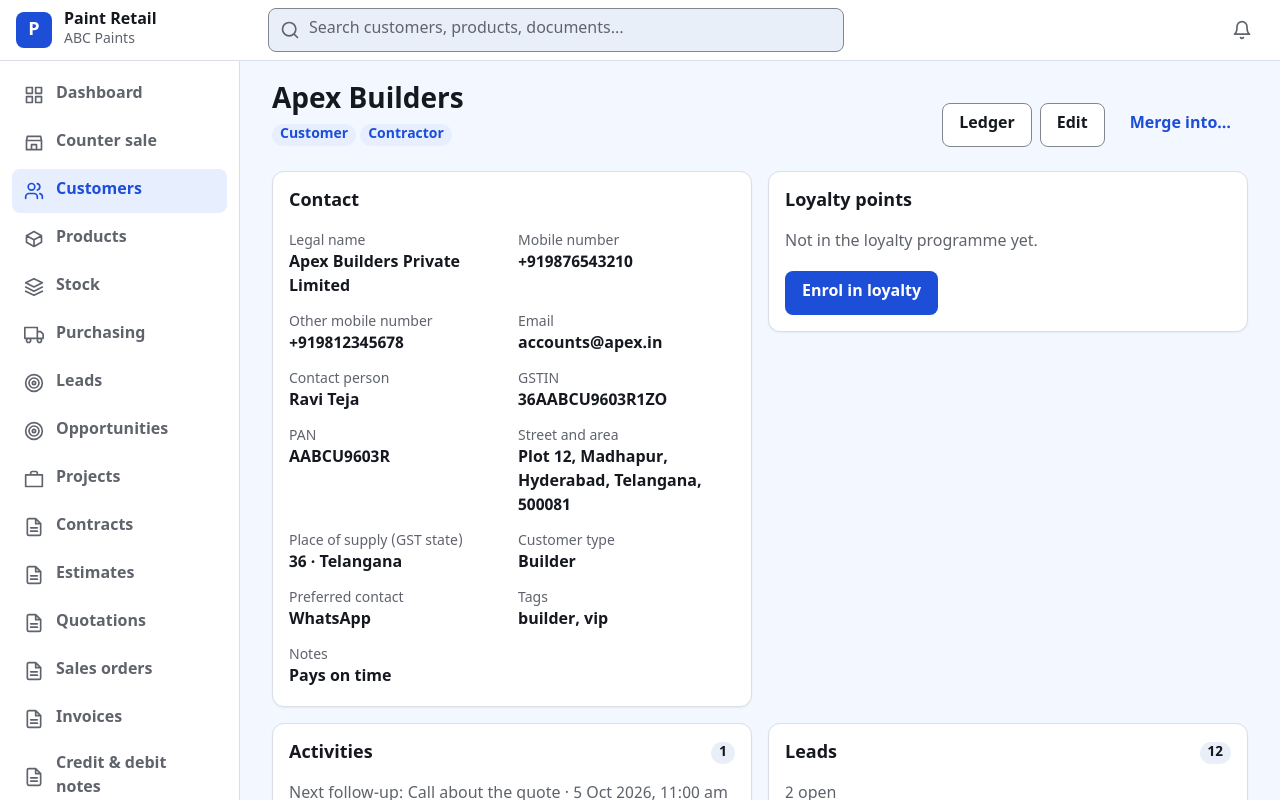
Scenario: LoyaltyPanel › enrols a customer who is not in the programme yet, with a salesperson
The image size is (1280, 800).
Expected: the heading "Apex Builders" is shown, [272,85,464,119]
Expected: the text "Not in the loyalty programme yet." is shown, [785,232,1038,253]
Click the button "Enrol in loyalty": (862,293) [785,271,938,315]
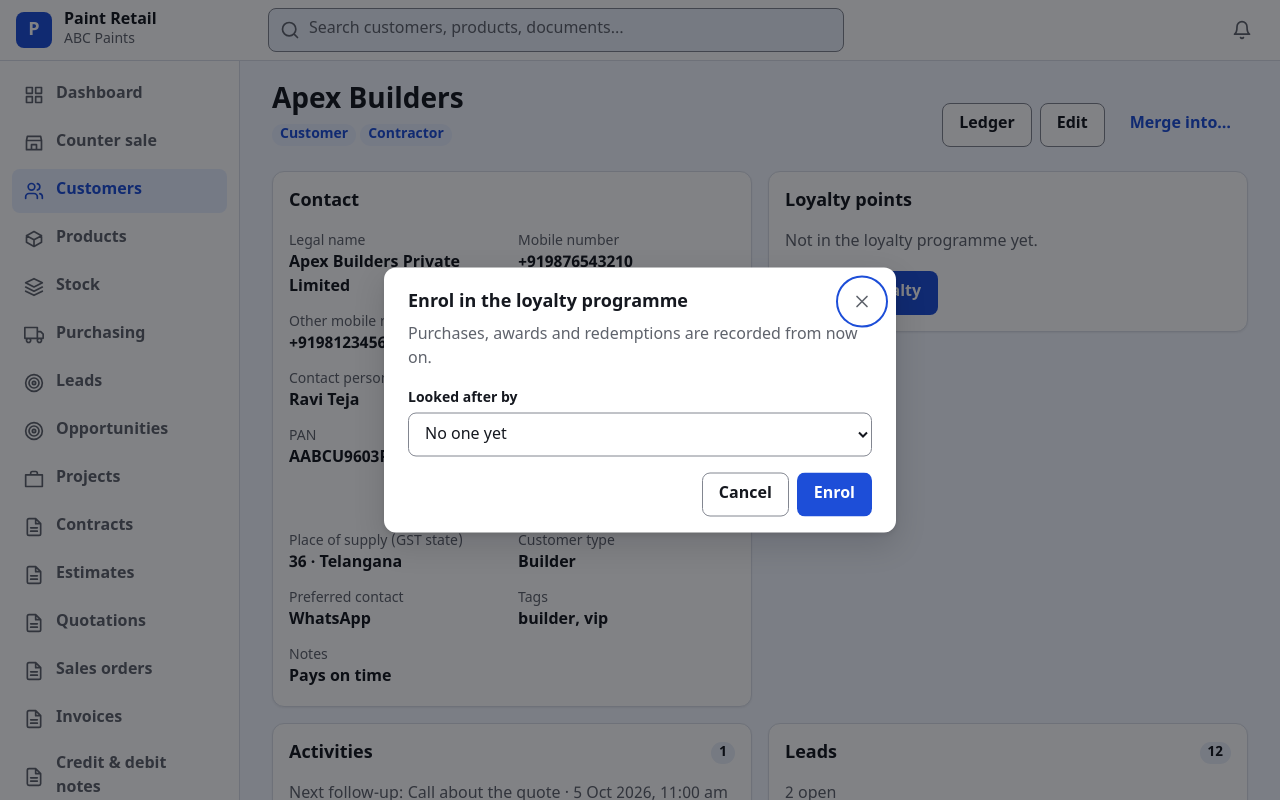
Result: the dialog shows "Purchases, awards and redemptions are recorded from now on." at [408,324,858,370]
Click the button "Enrol": (834,494) [797,472,872,516]
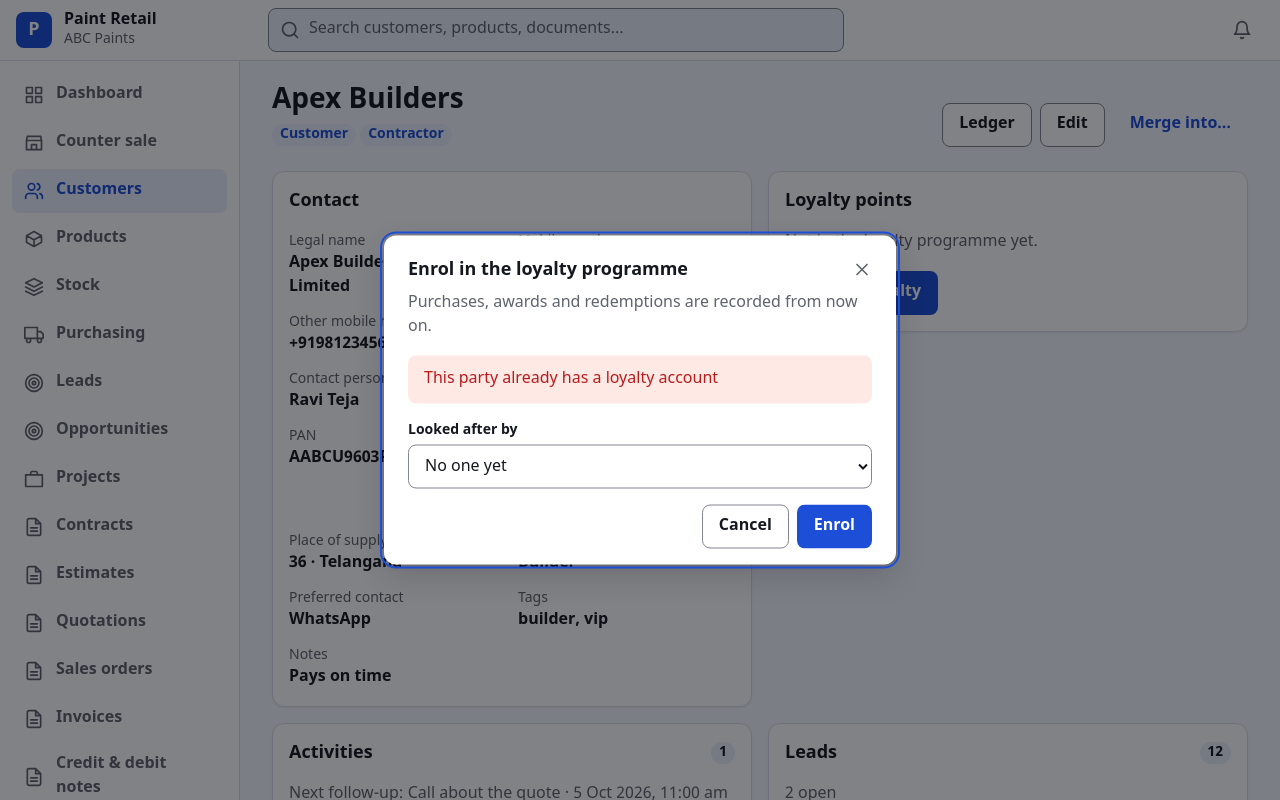
Result: the text "This party already has a loyalty account" is shown at [424,368,718,392]
Select "Sunita Rao · Sales" in the dropdown labelled "Looked after by": (640,466) [408,444,872,488]
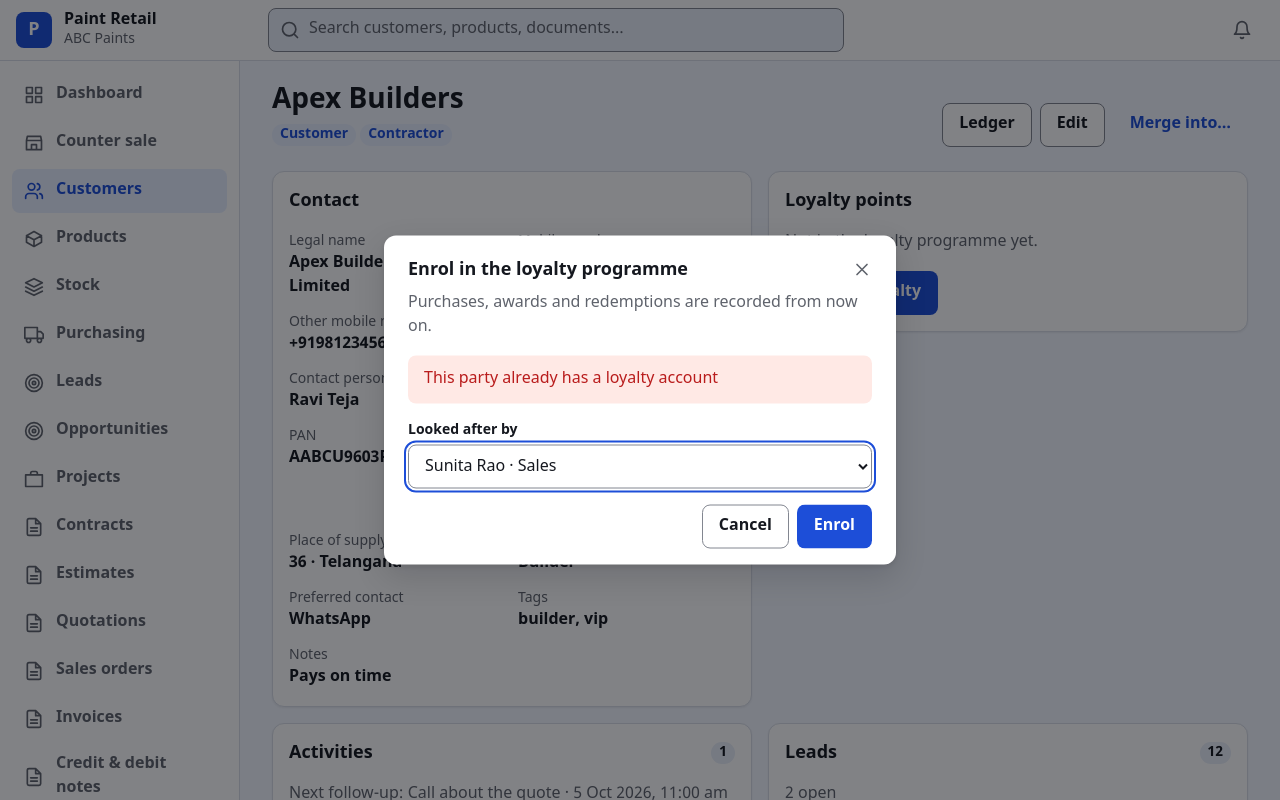
Click the button "Enrol": (834,526) [797,504,872,548]
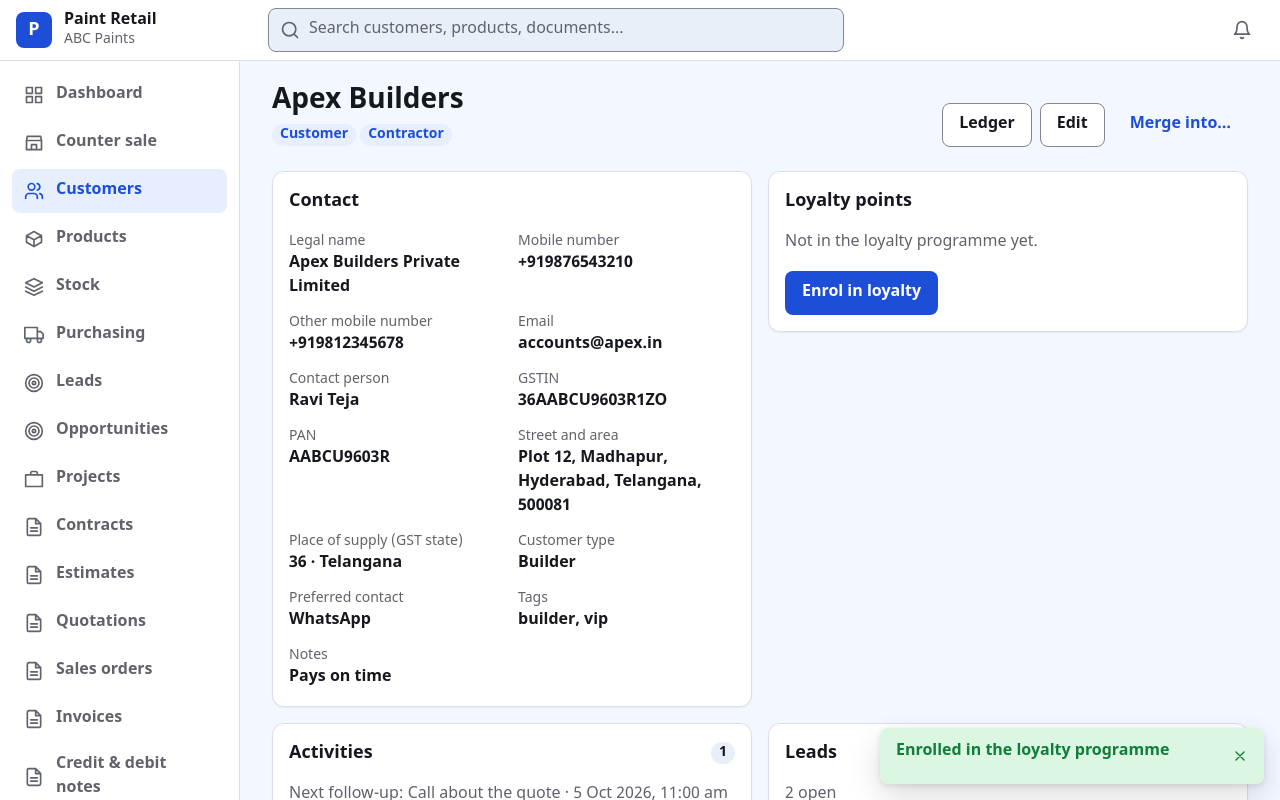
Result: the text "Enrolled in the loyalty programme" is shown at [896,740,1212,764]
Result: the dialog is gone
